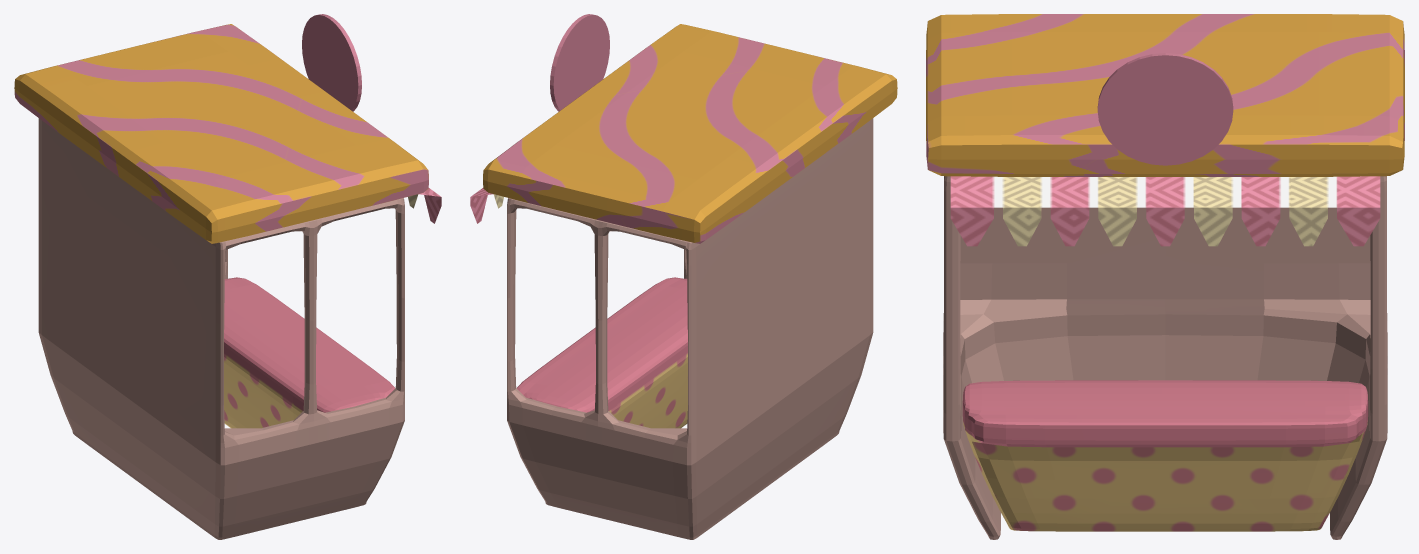
File: Booth 1-1.fbx
The picture shows the model from 3 angles, left to right: view 1: azimuth 30°, elevation 25°; view 2: azimuth 150°, elevation 25°; view 3: azimuth 270°, elevation 25°; orthographic projection. The views are drawn at different scales.
Parts seen in each view (by area): view 1: Cube, Cube.003, Cube.002, Cylinder, Plane; view 2: Cube, Cube.003, Cube.002, Cylinder, Plane; view 3: Cube, Cube.003, Cube.002, Plane, Cylinder.
Boxes of the visible parts, x1,y1,x2,y2 form: Cube: (38, 118, 404, 539); Cube.003: (14, 24, 428, 243); Cube.002: (224, 277, 395, 428); Cylinder: (302, 14, 361, 111); Plane: (408, 188, 441, 223); Cube: (507, 118, 873, 539); Cube.003: (483, 24, 897, 243); Cube.002: (516, 277, 687, 428); Cylinder: (550, 14, 609, 111); Plane: (470, 188, 503, 223); Cube: (943, 176, 1387, 539); Cube.003: (926, 14, 1404, 176); Cube.002: (962, 380, 1368, 531); Plane: (950, 176, 1380, 246); Cylinder: (1097, 53, 1233, 165).
Bounding box in the file's own units: 1012 × 1708 × 1456.
Materials: 1 (1 with a texture image).
